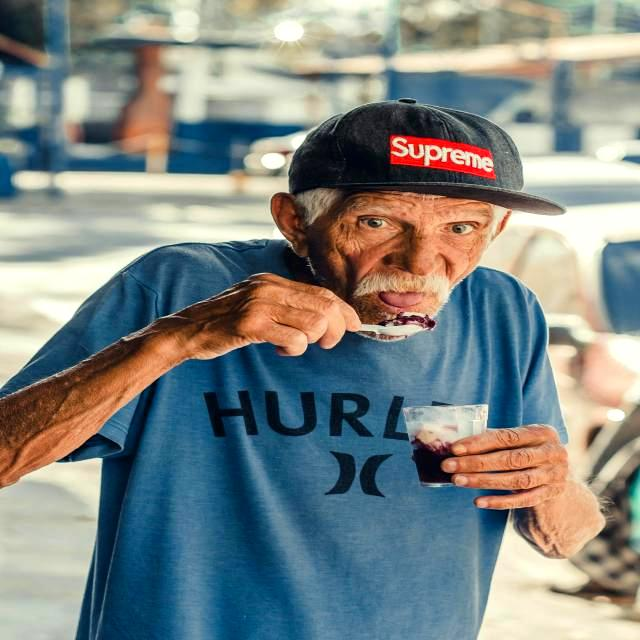no_hard_hat: (290, 99, 559, 214)
person: (0, 99, 604, 640)
